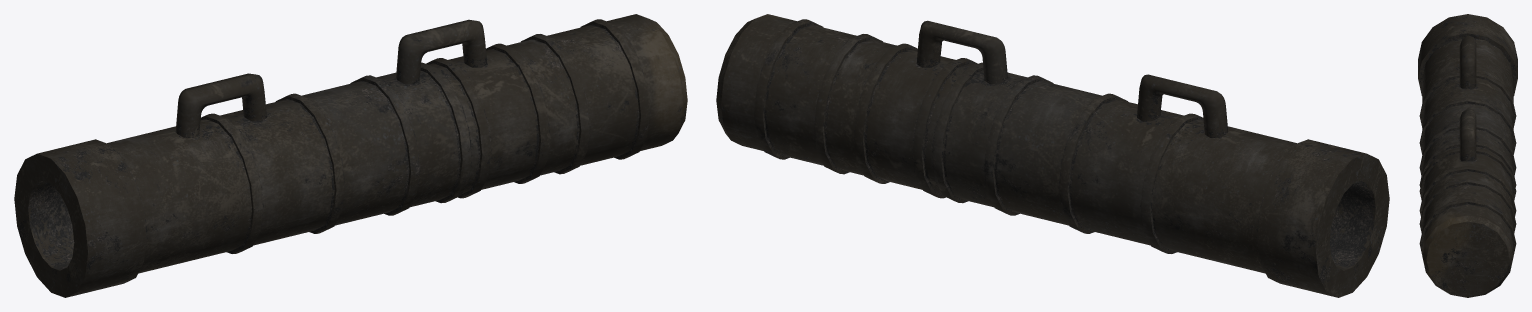
File: SM_Cheonja_Chongtong_Gun.fbx
The picture shows the model from 3 angles, left to right: view 1: azimuth 30°, elevation 25°; view 2: azimuth 150°, elevation 25°; view 3: azimuth 270°, elevation 25°; orthographic projection. The views are drawn at different scales.
Parts seen in each view (by area): view 1: SM_Cheonja_Chongtong_Gun; view 2: SM_Cheonja_Chongtong_Gun; view 3: SM_Cheonja_Chongtong_Gun.
Boxes of the visible parts, <box> form: SM_Cheonja_Chongtong_Gun: <box>14,14,687,297</box>; SM_Cheonja_Chongtong_Gun: <box>716,14,1389,297</box>; SM_Cheonja_Chongtong_Gun: <box>1418,14,1517,297</box>.
Size of the model in its own units: 131 by 27.7 by 34.83.
